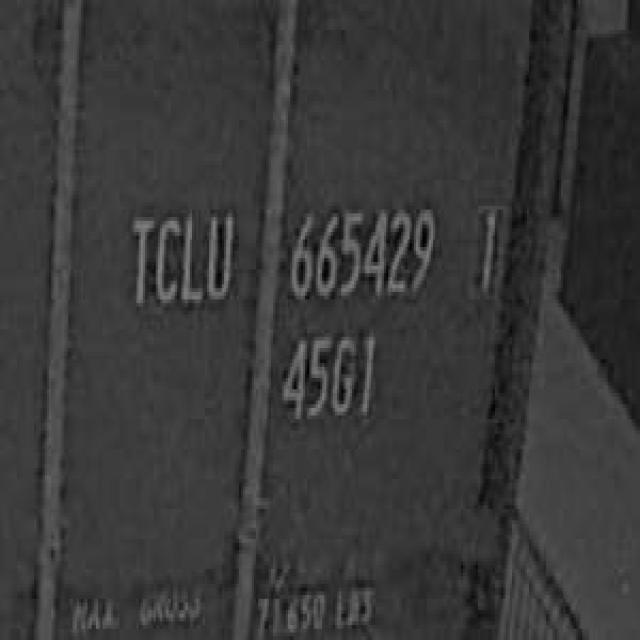dv: (465, 191, 506, 307)
owner: (124, 198, 237, 322)
serial: (284, 191, 439, 311)
size: (277, 322, 380, 430)
